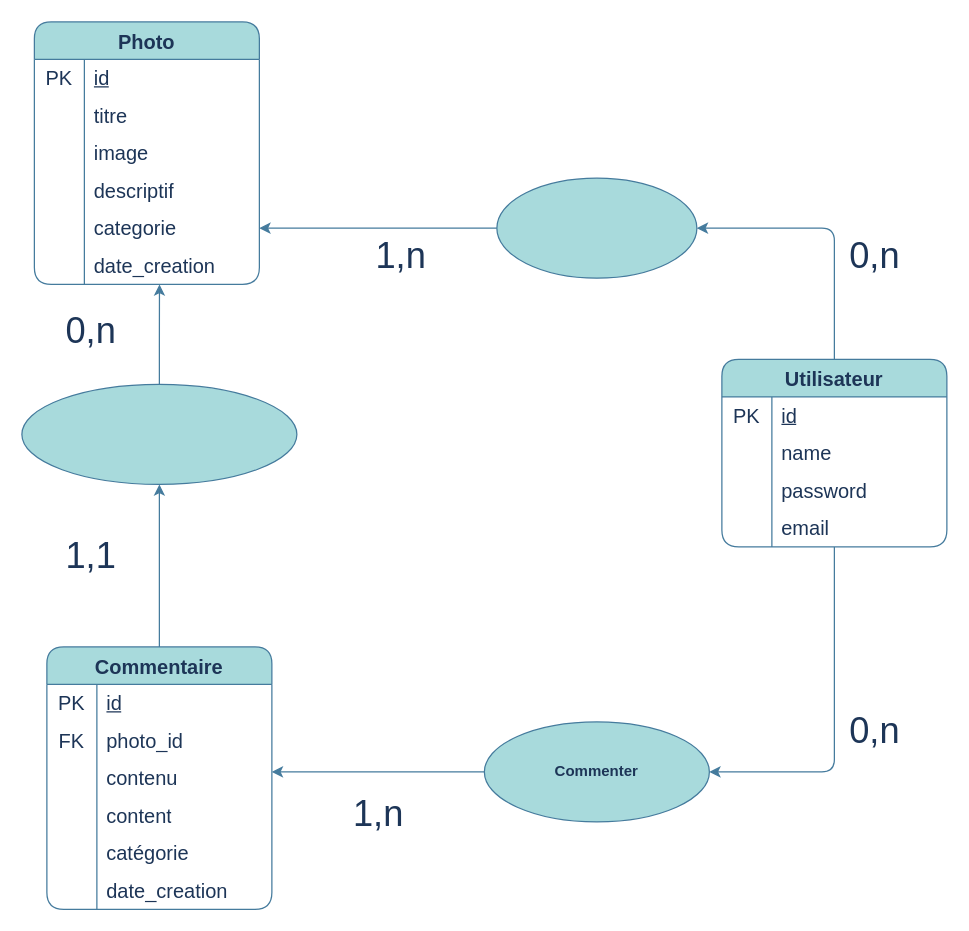
This 969x931 diagram has some shape labels left out. The centre of each missing label's shape, as x and y in pixels:
Appartient: the point at 159,433
Poster: the point at 596,227
